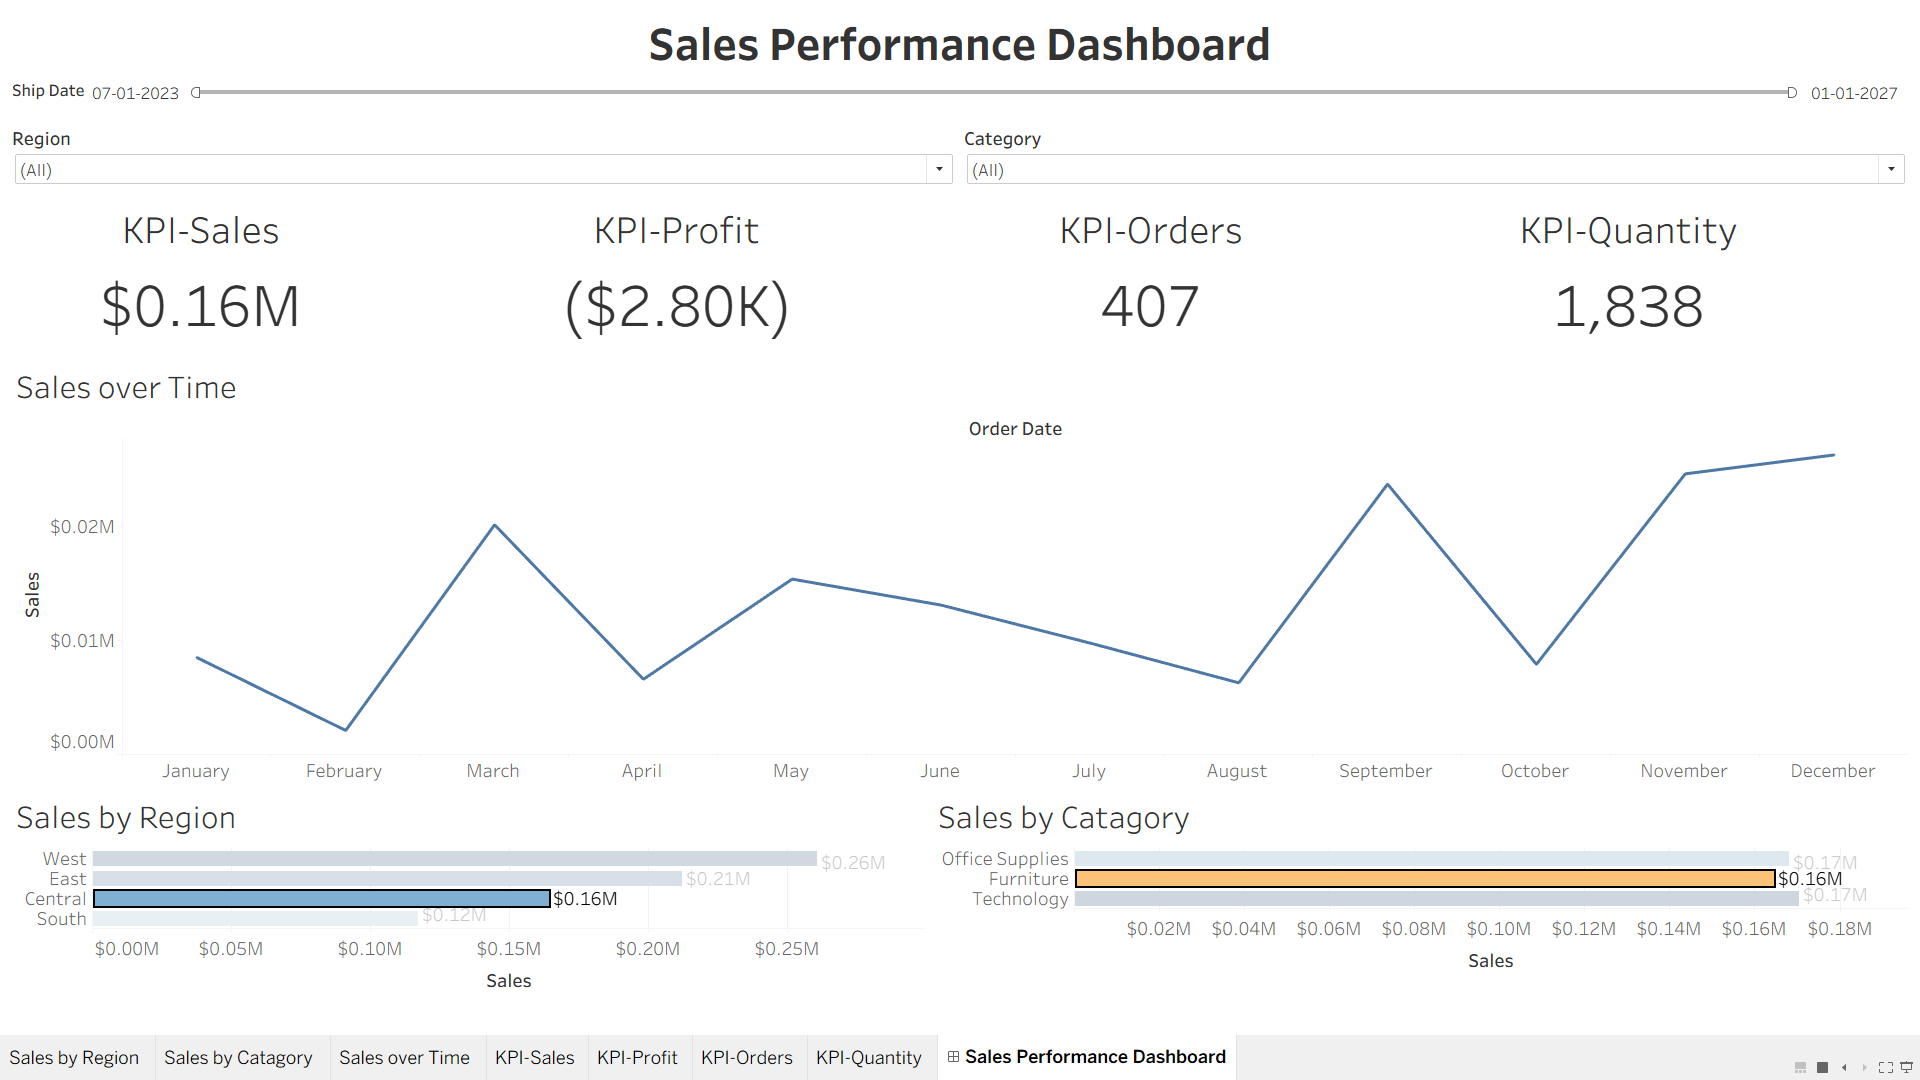

What the dashboard file says about the page in this screenshot:
{"tool":"tableau","page":{"name":"Sales Performance Dashboard","canvas":[1000,1000],"units":"permille","ordinal":0},"visuals":[{"type":"title","box":[5,8.9,989.9,75.6]},{"type":"filter","title":"Sales over Time","param":"[federated.0k5lg7b1i2wy1l1gqv2mb1i7kvae].[none:Ship Date:qk]","box":[5,84.5,989.9,42.5]},{"type":"filter","title":"Sales by Region","param":"[federated.0k5lg7b1i2wy1l1gqv2mb1i7kvae].[none:Region:nk]","box":[5,126.7,495,72.2]},{"type":"filter","title":"Sales by Catagory","param":"[federated.0k5lg7b1i2wy1l1gqv2mb1i7kvae].[none:Category:nk]","box":[500,126.7,495,72.2]},{"type":"worksheet","title":"KPI-Sales","mark":"Automatic","box":[5,198.9,247.5,153.3]},{"type":"worksheet","title":"KPI-Profit","mark":"Automatic","box":[252.5,198.9,247.5,153.3]},{"type":"worksheet","title":"KPI-Orders","mark":"Automatic","box":[500,198.9,247.5,153.3]},{"type":"worksheet","title":"KPI-Quantity","mark":"Automatic","box":[747.5,198.9,247.5,153.3]},{"type":"worksheet","title":"Sales over Time","mark":"Line","rows":["Sales"],"cols":["Order Date"],"box":[5,352,989.9,410.2]},{"type":"worksheet","title":"Sales by Region","mark":"Bar","rows":["Region"],"cols":["Sales"],"box":[5,762.2,476.1,228.9]},{"type":"worksheet","title":"Sales by Catagory","mark":"Automatic","rows":["Category"],"cols":["Sales"],"box":[481.1,762.2,513.9,228.9]}]}

Visuals, with their boxes on the dashboard's canvas, which has no fixed pixel size, in thousandths of its width and height (x1, y1, x2, y2). These are canvas units, not pixel positions in the 1920x1080 screenshot, which may show the page scaled, cropped or inside an application window:
title: (5, 9, 995, 84)
"Sales over Time" filter: (5, 84, 995, 127)
"Sales by Region" filter: (5, 127, 500, 199)
"Sales by Catagory" filter: (500, 127, 995, 199)
"KPI-Sales" worksheet: (5, 199, 252, 352)
"KPI-Profit" worksheet: (252, 199, 500, 352)
"KPI-Orders" worksheet: (500, 199, 748, 352)
"KPI-Quantity" worksheet: (748, 199, 995, 352)
"Sales over Time" worksheet (Line marks): (5, 352, 995, 762)
"Sales by Region" worksheet (Bar marks): (5, 762, 481, 991)
"Sales by Catagory" worksheet: (481, 762, 995, 991)
